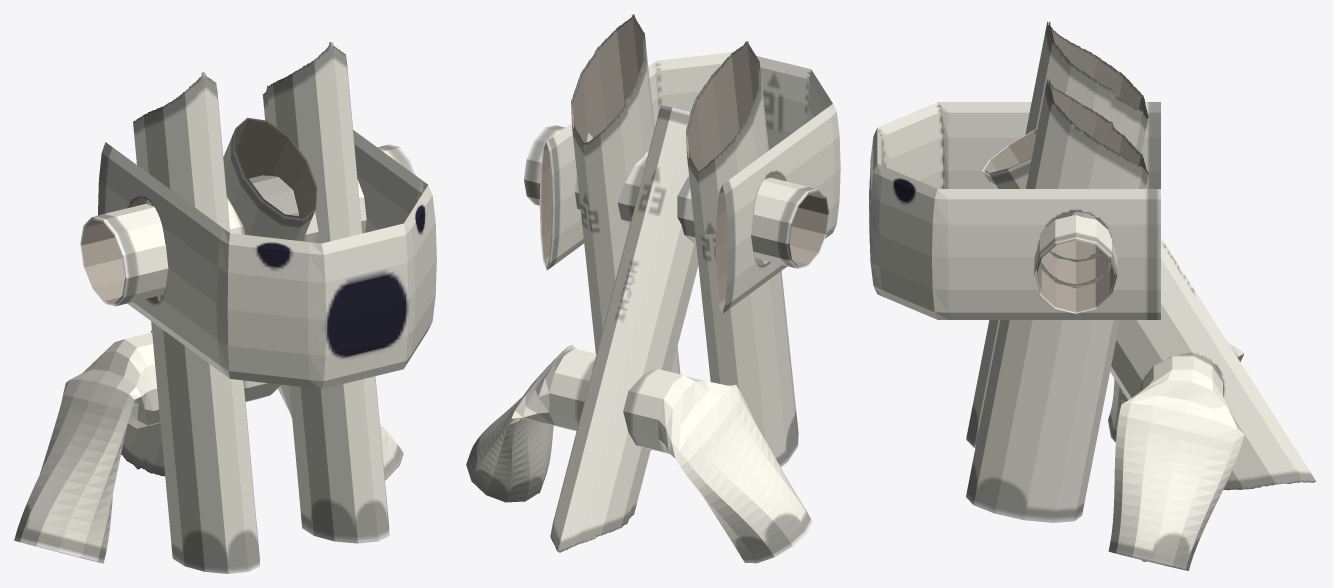
Rendered from hachi.glb.
3 views of the same model, side by side, from view 1: azimuth 30°, elevation 25°; view 2: azimuth 150°, elevation 25°; view 3: azimuth 270°, elevation 25° (orthographic). The views are drawn at different scales.
Parts seen in each view (by area): view 1: P48 ハチ_頭_顔と頬 [短冊5-1], P53 ハチ_頭・脚_右耳から右脚 [短冊5-3], P51 ハチ_頭・脚_左耳から左脚 [短冊5-2], P46 ハチ_腕_左右の腕と接続軸 [短冊4-4], P45 ハチ_頭・胴体_顔・耳・脚・胴体をつなぐ軸 [短冊4-3], P55 ハチ_胴体_奥行き方向の支柱・後部 [短冊5-4]; view 2: P46 ハチ_腕_左右の腕と接続軸 [短冊4-4], P55 ハチ_胴体_奥行き方向の支柱・後部 [短冊5-4], P48 ハチ_頭_顔と頬 [短冊5-1], P53 ハチ_頭・脚_右耳から右脚 [短冊5-3], P51 ハチ_頭・脚_左耳から左脚 [短冊5-2], P45 ハチ_頭・胴体_顔・耳・脚・胴体をつなぐ軸 [短冊4-3]; view 3: P48 ハチ_頭_顔と頬 [短冊5-1], P51 ハチ_頭・脚_左耳から左脚 [短冊5-2], P46 ハチ_腕_左右の腕と接続軸 [短冊4-4], P55 ハチ_胴体_奥行き方向の支柱・後部 [短冊5-4], P53 ハチ_頭・脚_右耳から右脚 [短冊5-3], P45 ハチ_頭・胴体_顔・耳・脚・胴体をつなぐ軸 [短冊4-3].
Boxes of the visible parts, x1,y1,x2,y2 form: P48 ハチ_頭_顔と頬 [短冊5-1]: (98, 130, 436, 389); P53 ハチ_頭・脚_右耳から右脚 [短冊5-3]: (133, 72, 259, 573); P51 ハチ_頭・脚_左耳から左脚 [短冊5-2]: (262, 42, 389, 543); P46 ハチ_腕_左右の腕と接続軸 [短冊4-4]: (14, 332, 403, 563); P45 ハチ_頭・胴体_顔・耳・脚・胴体をつなぐ軸 [短冊4-3]: (80, 144, 418, 306); P55 ハチ_胴体_奥行き方向の支柱・後部 [短冊5-4]: (121, 117, 317, 476); P46 ハチ_腕_左右の腕と接続軸 [短冊4-4]: (466, 345, 812, 563); P55 ハチ_胴体_奥行き方向の支柱・後部 [短冊5-4]: (550, 105, 698, 552); P48 ハチ_頭_顔と頬 [短冊5-1]: (539, 52, 840, 313); P53 ハチ_頭・脚_右耳から右脚 [短冊5-3]: (686, 41, 798, 466); P51 ハチ_頭・脚_左耳から左脚 [短冊5-2]: (571, 14, 680, 450); P45 ハチ_頭・胴体_顔・耳・脚・胴体をつなぐ軸 [短冊4-3]: (524, 125, 829, 268); P48 ハチ_頭_顔と頬 [短冊5-1]: (869, 102, 1160, 319); P51 ハチ_頭・脚_左耳から左脚 [短冊5-2]: (966, 78, 1148, 522); P46 ハチ_腕_左右の腕と接続軸 [短冊4-4]: (1108, 342, 1244, 570); P55 ハチ_胴体_奥行き方向の支柱・後部 [短冊5-4]: (982, 128, 1316, 490); P53 ハチ_頭・脚_右耳から右脚 [短冊5-3]: (966, 21, 1148, 447); P45 ハチ_頭・胴体_顔・耳・脚・胴体をつなぐ軸 [短冊4-3]: (1034, 215, 1117, 313).
Bounding box in the file's own units: 0.0369 × 0.0507 × 0.0422.
12 materials, 12 textured.
